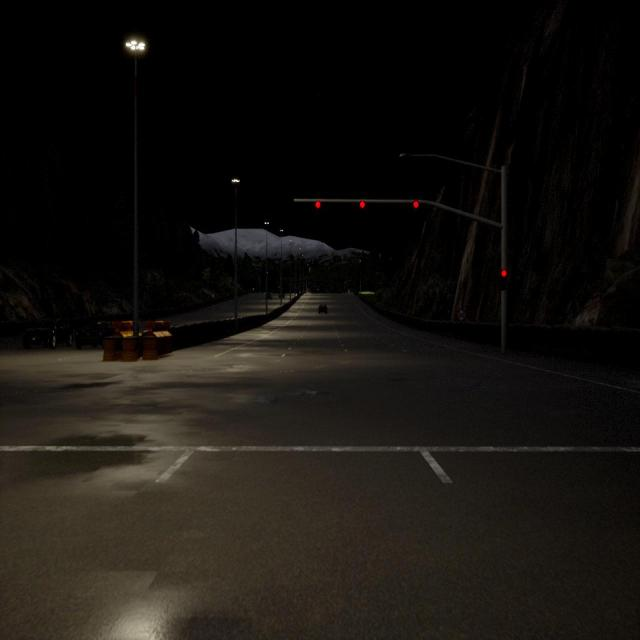Traffic_Signs: (457, 310, 465, 320), (112, 307, 116, 313), (212, 294, 214, 298)
Vehicle: (22, 316, 74, 349), (76, 319, 112, 349), (316, 303, 328, 315), (265, 292, 272, 300), (278, 292, 284, 298)
traffic_light: (501, 269, 507, 290), (315, 200, 321, 209), (413, 200, 419, 208), (360, 200, 365, 208)
